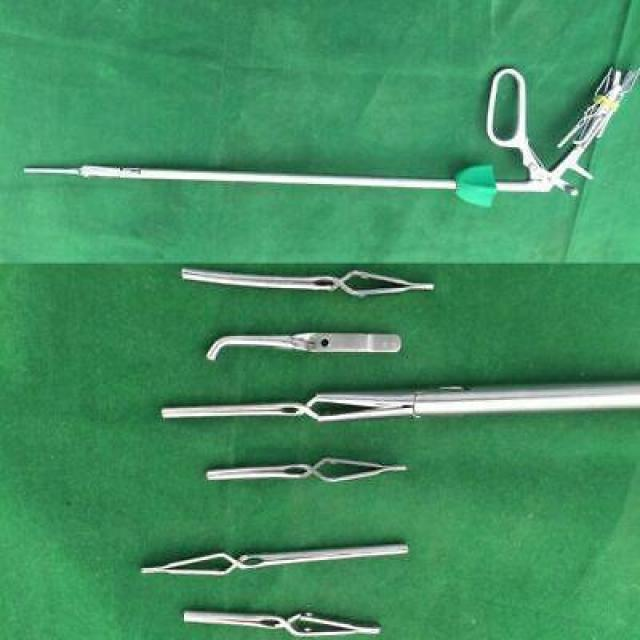Bulldog: (139, 540, 410, 578), (180, 267, 438, 299), (160, 392, 408, 424), (204, 326, 403, 364), (203, 453, 411, 485), (180, 610, 382, 640)
